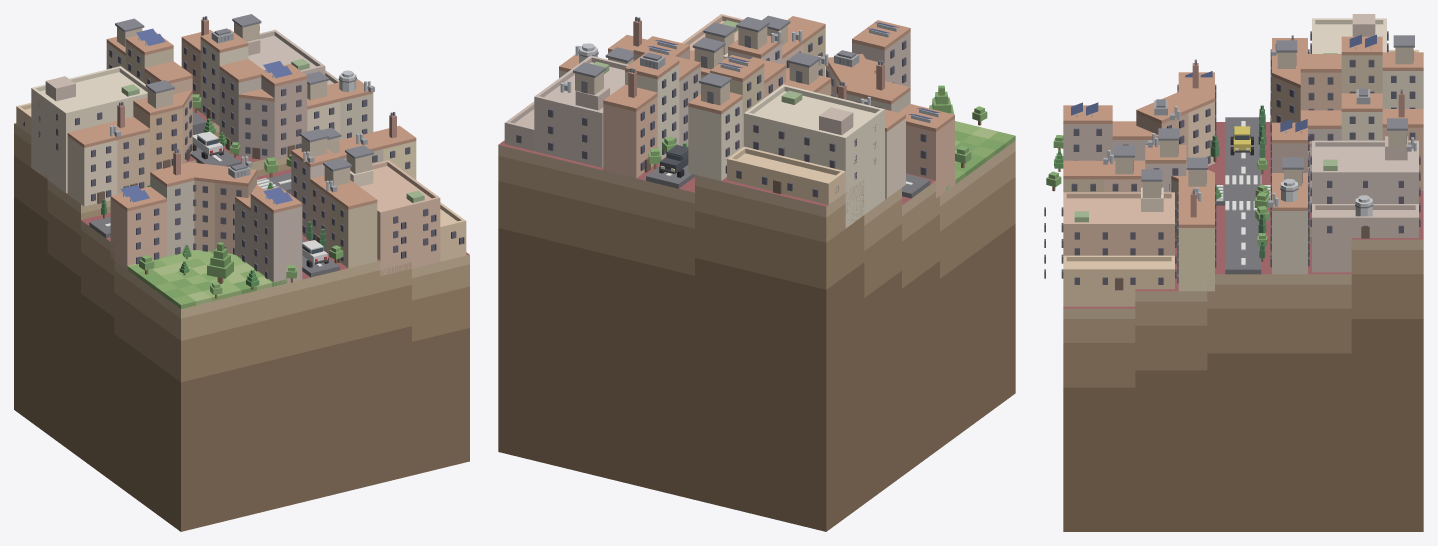
File: block_16_base.glb
3 views of the same model, side by side, from view 1: azimuth 30°, elevation 25°; view 2: azimuth 150°, elevation 25°; view 3: azimuth 270°, elevation 25° (orthographic). The views are drawn at different scales.
Parts seen in each view (by area): view 1: Patch_MidRight_b18, Cerda_MidRight_b18, Insets_MidRight_b18, CerdaRoofProps_MidRight_b18, Green_MidRight_b18, Roads_MidRight_b18, Asset_Tree_Pine.005, Asset_Car.032, Asset_Car.035; view 2: Patch_MidRight_b18, Cerda_MidRight_b18, Insets_MidRight_b18, CerdaRoofProps_MidRight_b18, Green_MidRight_b18, Roads_MidRight_b18, Asset_Car.033; view 3: Patch_MidRight_b18, Cerda_MidRight_b18, Insets_MidRight_b18, CerdaRoofProps_MidRight_b18, Roads_MidRight_b18, Zebra_MidRight_b18, Asset_Car.034.
Part boxes in pixels (x1,y1,x2,y2): Patch_MidRight_b18: (14, 108, 469, 531); Cerda_MidRight_b18: (67, 29, 416, 285); Insets_MidRight_b18: (16, 29, 466, 276); CerdaRoofProps_MidRight_b18: (110, 14, 396, 204); Green_MidRight_b18: (127, 250, 287, 308); Roads_MidRight_b18: (89, 111, 339, 277); Asset_Tree_Pine.005: (207, 242, 233, 283); Asset_Car.032: (192, 131, 223, 159); Asset_Car.035: (302, 240, 328, 267); Patch_MidRight_b18: (498, 140, 1015, 531); Cerda_MidRight_b18: (559, 16, 954, 198); Insets_MidRight_b18: (504, 14, 884, 228); CerdaRoofProps_MidRight_b18: (560, 15, 940, 122); Green_MidRight_b18: (946, 121, 1015, 190); Roads_MidRight_b18: (646, 165, 930, 198); Asset_Car.033: (659, 145, 688, 177); Patch_MidRight_b18: (1063, 122, 1423, 531); Cerda_MidRight_b18: (1063, 36, 1423, 291); Insets_MidRight_b18: (1044, 14, 1420, 306); CerdaRoofProps_MidRight_b18: (1071, 34, 1416, 217); Roads_MidRight_b18: (1216, 117, 1270, 274); Zebra_MidRight_b18: (1216, 175, 1270, 210); Asset_Car.034: (1230, 126, 1253, 155).
Size of the model in its own units: 9.5 by 11.58 by 10.
